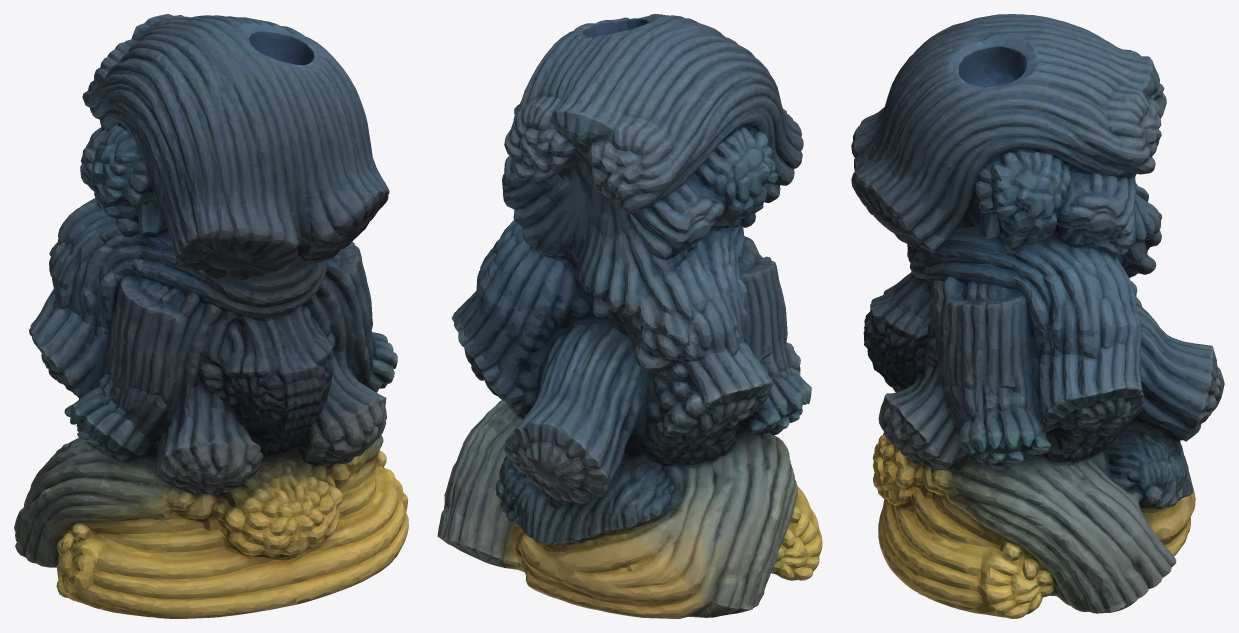
The model's file is 05_4_js_blob_candle1-opt-v23.glb.
The picture shows the model from 3 angles, left to right: view 1: azimuth 30°, elevation 25°; view 2: azimuth 150°, elevation 25°; view 3: azimuth 270°, elevation 25°; orthographic projection. The views are drawn at different scales.
Visible parts, largest first — view 1: tripo_node_302fbb40-8182-466e-ab73-a4d370e7cff3; view 2: tripo_node_302fbb40-8182-466e-ab73-a4d370e7cff3; view 3: tripo_node_302fbb40-8182-466e-ab73-a4d370e7cff3.
Boxes of the visible parts, box(x1,y1,x2,y2) form: tripo_node_302fbb40-8182-466e-ab73-a4d370e7cff3: box(14, 14, 408, 618); tripo_node_302fbb40-8182-466e-ab73-a4d370e7cff3: box(437, 14, 822, 618); tripo_node_302fbb40-8182-466e-ab73-a4d370e7cff3: box(851, 14, 1224, 618).
Size of the model in its own units: 0.1355 by 0.2 by 0.133.
Materials: 1 (1 with a texture image).
